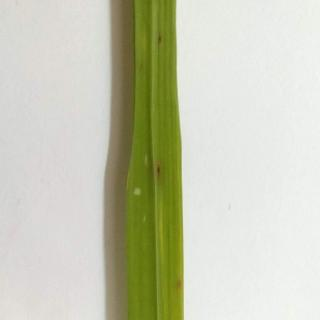bercak-Cokelat: (153, 164, 167, 184), (154, 28, 167, 47), (176, 271, 183, 292)
